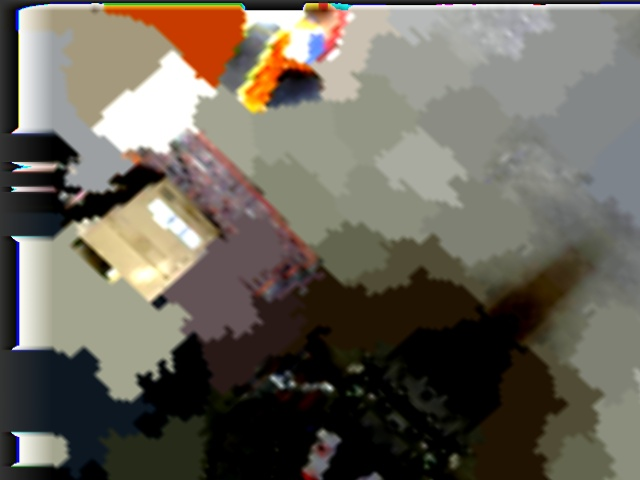one: (87, 34, 156, 97)
